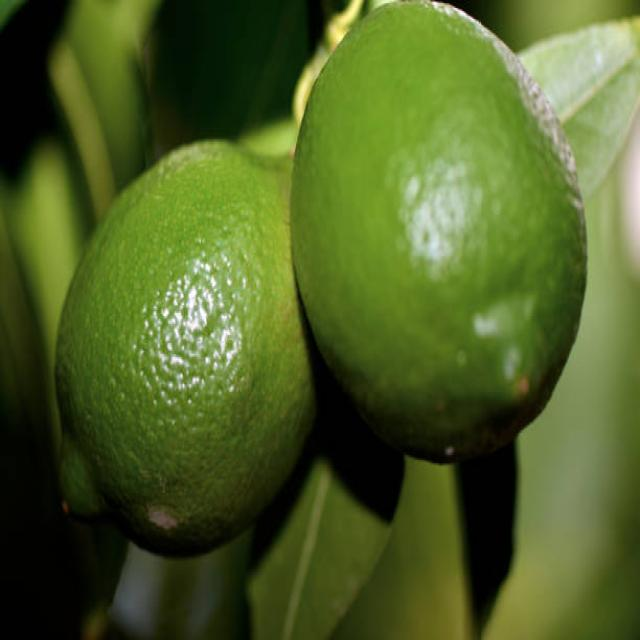Unripe: (288, 0, 588, 444), (54, 140, 316, 563)
